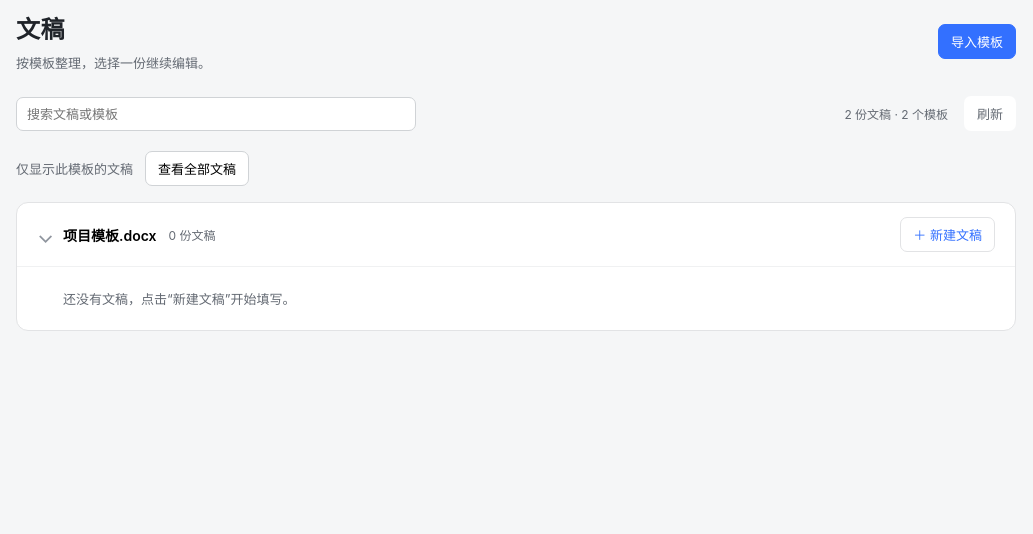
文稿分组列表 › 从模板页进入按 ID 筛选文稿，查看全部后恢复其他组
Expected: the number of elements with class "template-group" is 1, [16,202,1016,331]
Click the button "查看全部文稿" at point(197, 168), box [145,151,249,186]
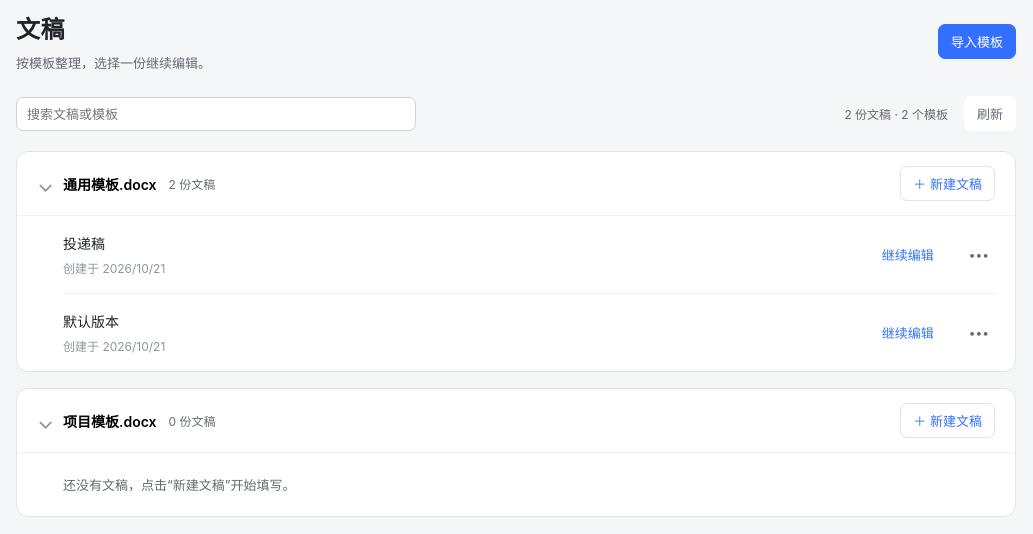
Expected: the number of elements with class "template-group" is 2, [16,151,1016,372]; [16,388,1016,517]
